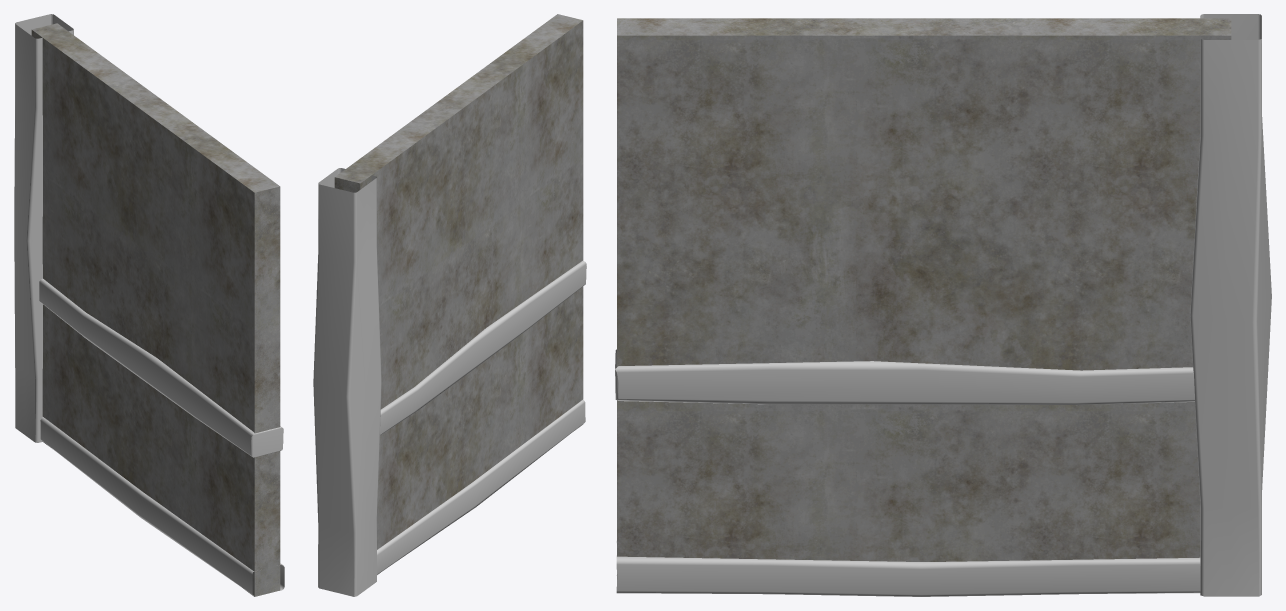
File: SM_Wall56.fbx
The picture shows the model from 3 angles, left to right: view 1: azimuth 30°, elevation 25°; view 2: azimuth 150°, elevation 25°; view 3: azimuth 270°, elevation 25°; orthographic projection. The views are drawn at different scales.
Parts seen in each view (by area): view 1: SM_Wall56_LOD0; view 2: SM_Wall56_LOD0; view 3: SM_Wall56_LOD0.
Boxes of the visible parts, box(x1,y1,x2,y2) form: SM_Wall56_LOD0: box(14, 14, 284, 596); SM_Wall56_LOD0: box(313, 14, 586, 596); SM_Wall56_LOD0: box(615, 14, 1271, 596).
Bounding box in the file's own units: 39.87 × 321 × 303.
